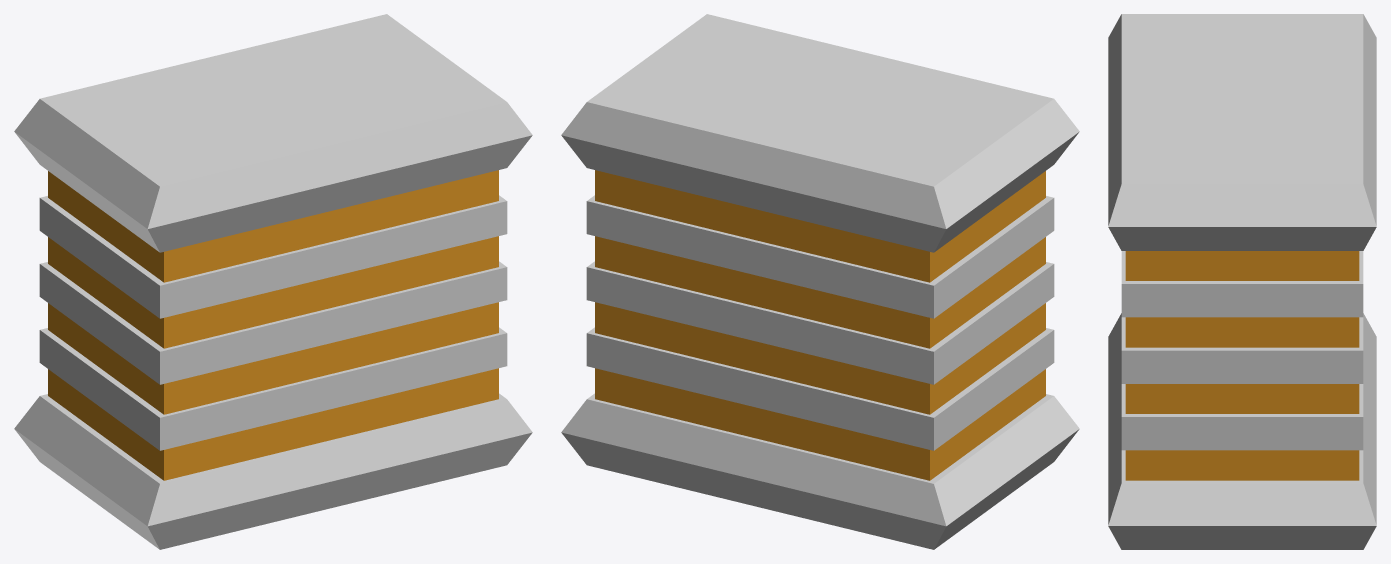
File: Buildings-base2-variant.fbx
3 renders of one model, left to right at view 1: azimuth 30°, elevation 25°; view 2: azimuth 150°, elevation 25°; view 3: azimuth 270°, elevation 25°, orthographic.
Parts seen in each view (by area): view 1: BuildingBase2; view 2: BuildingBase2; view 3: BuildingBase2.
Boxes of the visible parts, x1,y1,x2,y2 form: BuildingBase2: (14, 14, 532, 549); BuildingBase2: (561, 14, 1079, 549); BuildingBase2: (1108, 14, 1376, 549).
Size of the model in its own units: 55.49 by 50 by 33.29.
